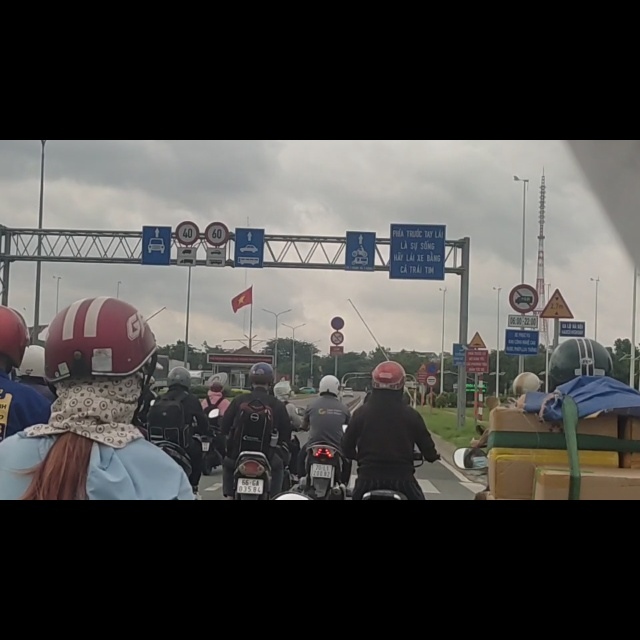bien_cam: (540, 263, 575, 318), (509, 255, 539, 307), (175, 143, 200, 186), (205, 146, 229, 188), (452, 360, 467, 401), (468, 339, 487, 371), (331, 313, 345, 338), (330, 341, 344, 364), (425, 397, 438, 415), (426, 418, 437, 439)
